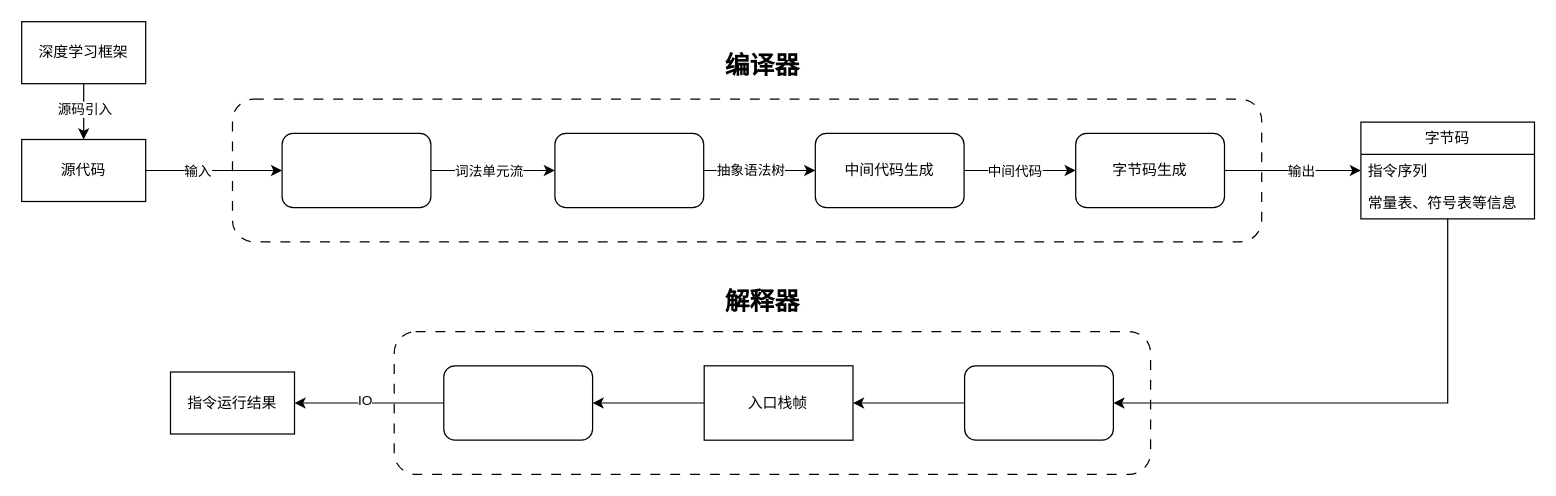
This 1556x496 diagram has some shape labels left out. The box of each missing label's shape, as (x1, y1, x2, y2) in pixels:
字节码加载: (963, 365, 1113, 440)
解释执行指令序列: (443, 365, 593, 440)
词法分析: (281, 132, 431, 208)
语法分析: (554, 132, 704, 208)
